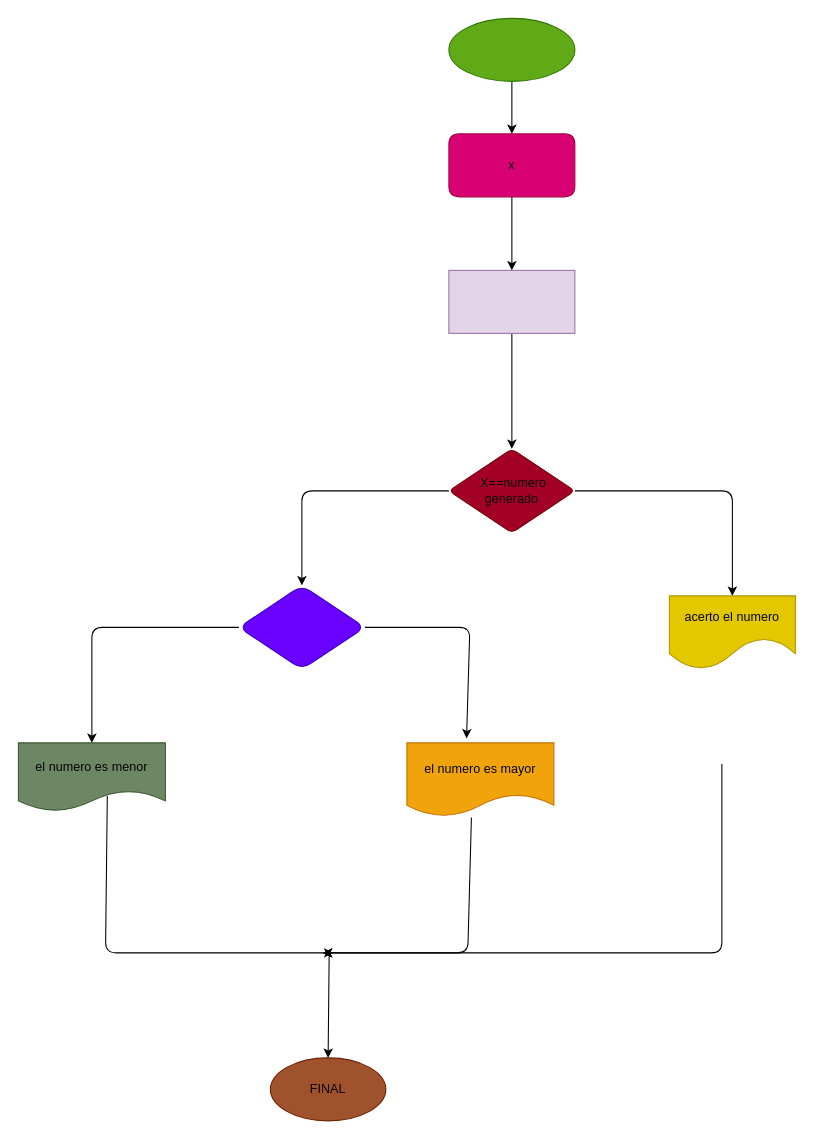
The diagram is 814 pixels wide and 1139 high, and some of its shapes have lost their labels. Each missing label, with the centre of its shape:
genera un numero aleatorio: the point at 511,301
INICIO: the point at 511,49
X<numero generado: the point at 301,626
